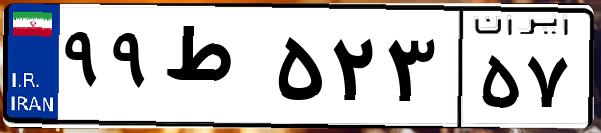2: (330, 28, 385, 110)
3: (385, 28, 445, 110)
5: (270, 28, 330, 110), (475, 38, 525, 113)
7: (525, 38, 570, 115)
9: (57, 26, 110, 100), (110, 28, 158, 98)
ط: (158, 20, 270, 120)
